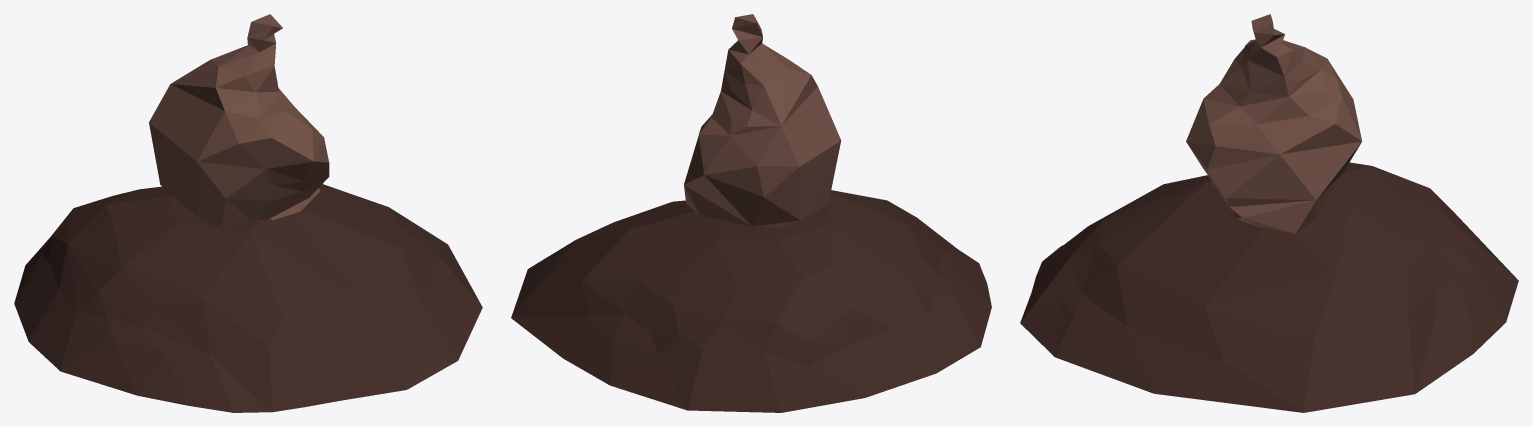
File: Brown_rock_002.fbx
The picture shows the model from 3 angles, left to right: view 1: azimuth 30°, elevation 25°; view 2: azimuth 150°, elevation 25°; view 3: azimuth 270°, elevation 25°; orthographic projection. The views are drawn at different scales.
Visible parts, largest first — view 1: Brown_rock_002; view 2: Brown_rock_002; view 3: Brown_rock_002.
Boxes of the visible parts, left/top/right/bottom form: Brown_rock_002: left=14, top=14, right=482, bottom=412; Brown_rock_002: left=511, top=14, right=991, bottom=412; Brown_rock_002: left=1020, top=14, right=1518, bottom=412.
Bounding box in the file's own units: 1078 × 1082 × 706.
